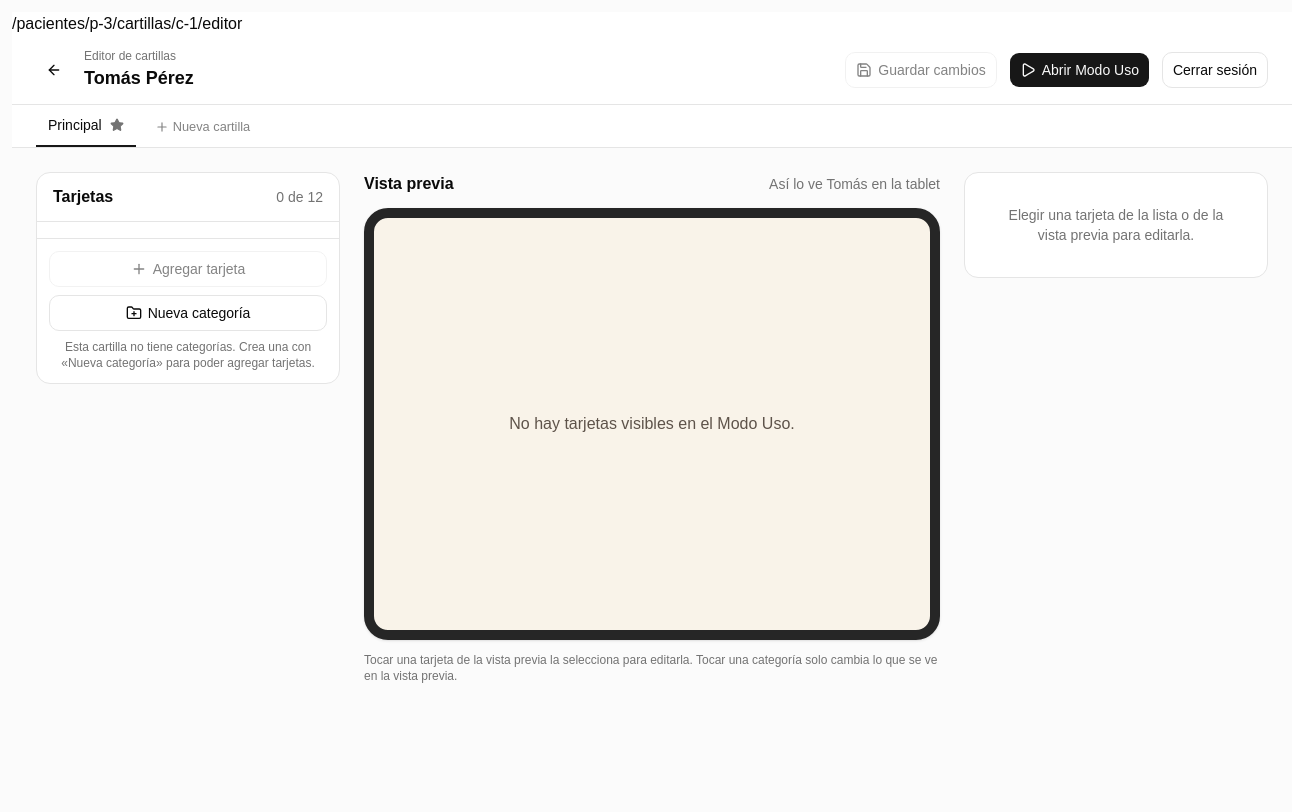
Scenario: BoardEditorPage creating categories › enables "Agregar tarjeta" once the first category exists and updates the note
The image size is (1292, 812).
Expected: the heading "Tomás Pérez" is shown, top-left (84, 64), bottom-right (194, 92)
Expected: the button "Agregar tarjeta" is disabled, top-left (49, 251), bottom-right (327, 287)
Click the button "Nueva categoría". click: (188, 313)
box: top-left (49, 295), bottom-right (327, 331)
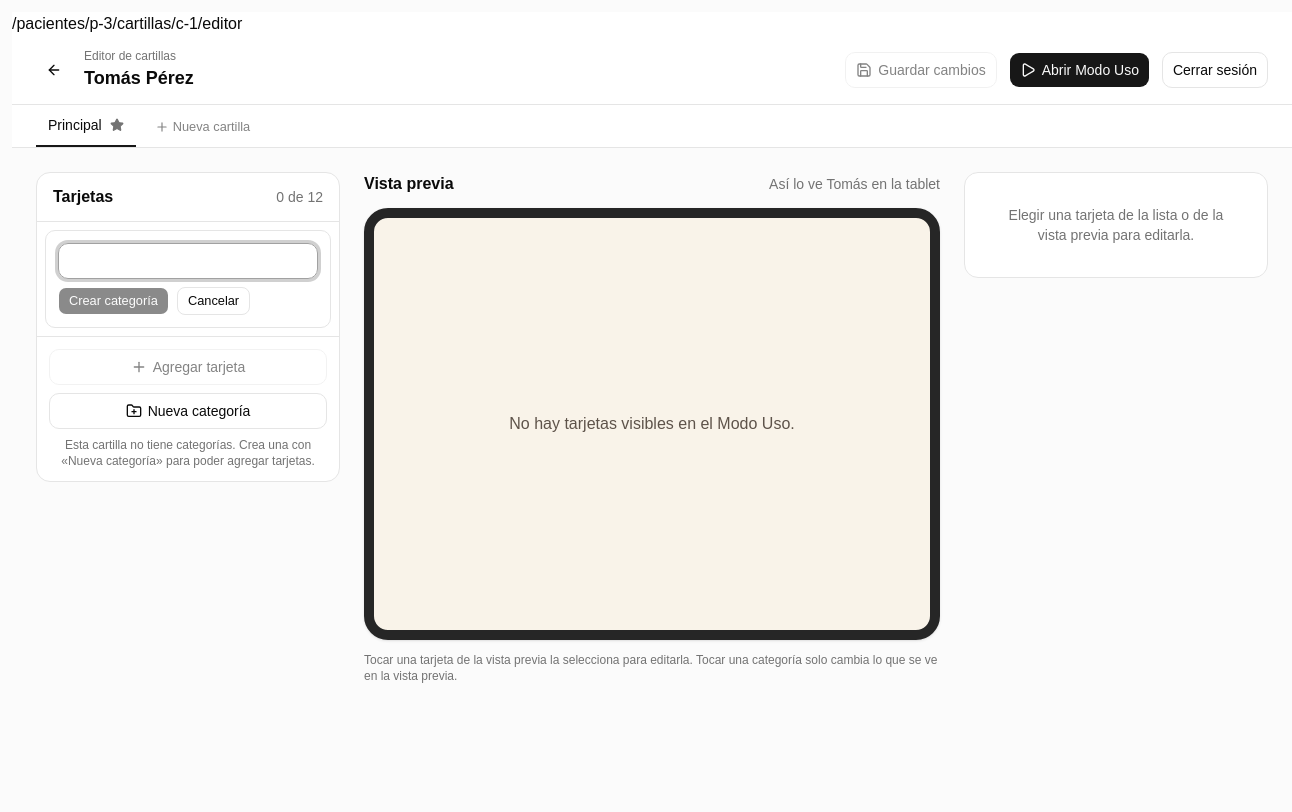
Type "Primera" into the field named "Nombre de la nueva categoría". click: (188, 261)
box: top-left (58, 243), bottom-right (318, 279)
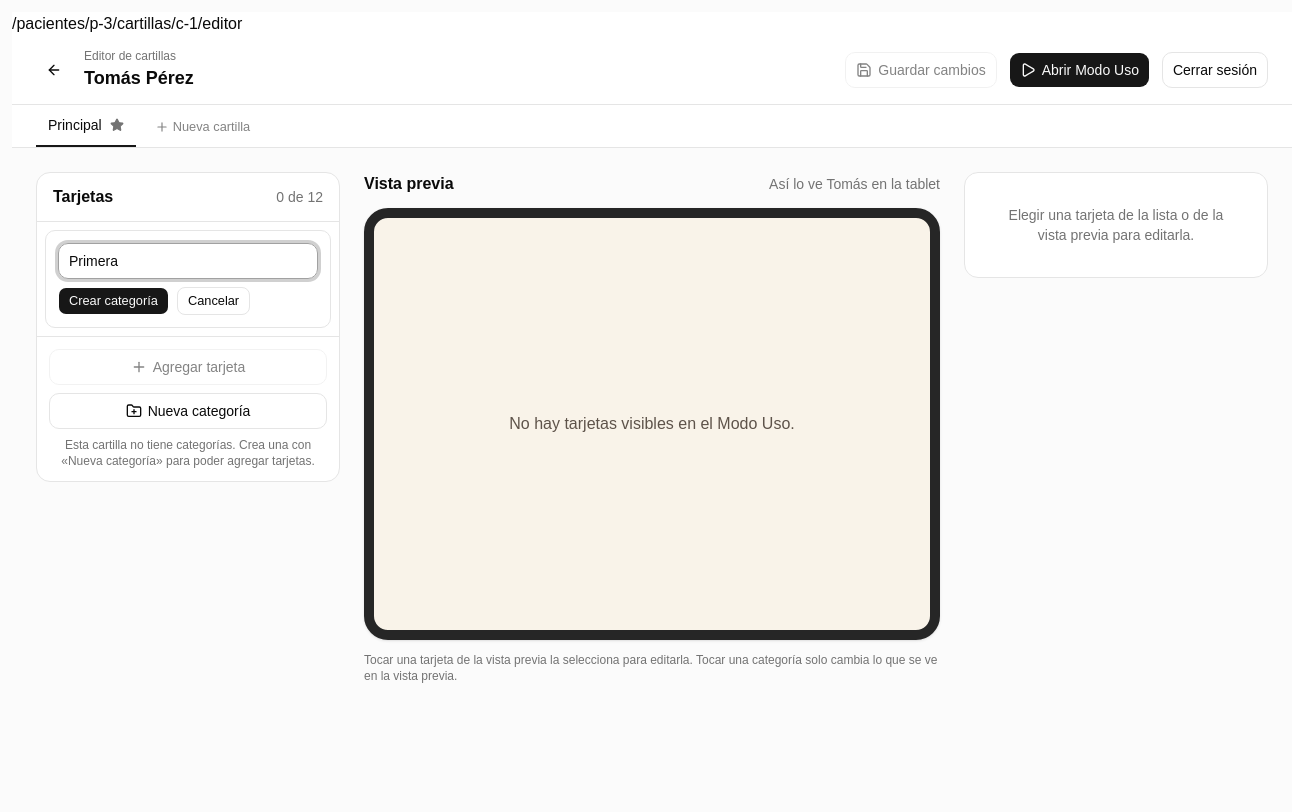
Click the button "Crear categoría". click: (113, 301)
box: top-left (58, 287), bottom-right (169, 315)
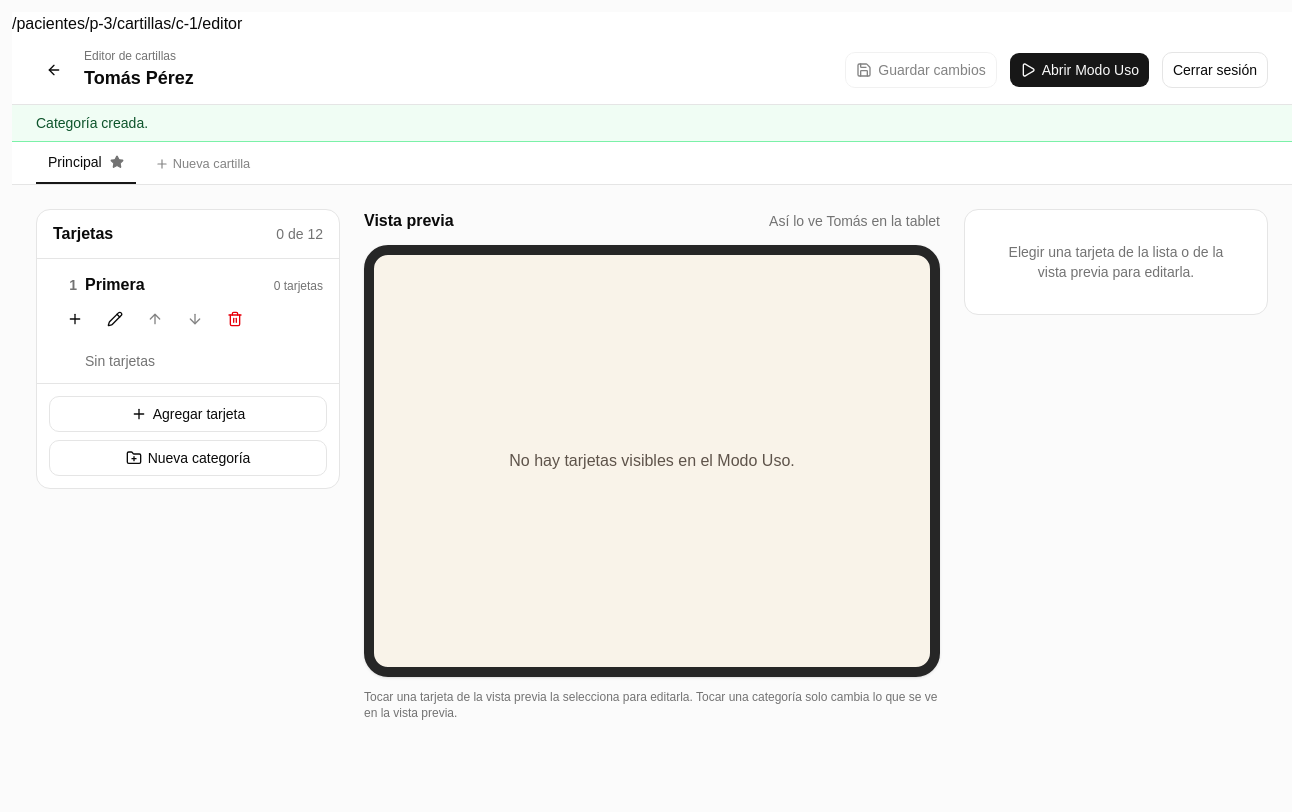
Expected: the text "Categoría creada." is shown, top-left (12, 105), bottom-right (1291, 142)
Expected: the button "Agregar tarjeta" is enabled, top-left (49, 396), bottom-right (327, 432)
Expected: the text "Esta cartilla no tiene categorías" is gone
